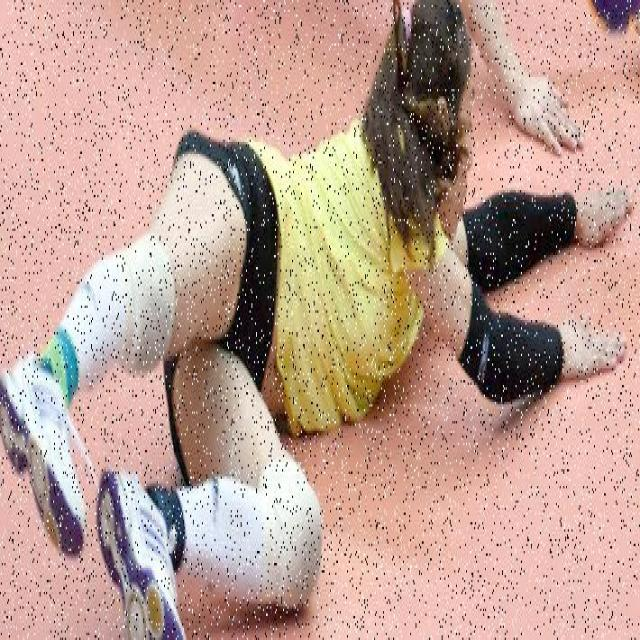fall: (60, 56, 612, 596)
